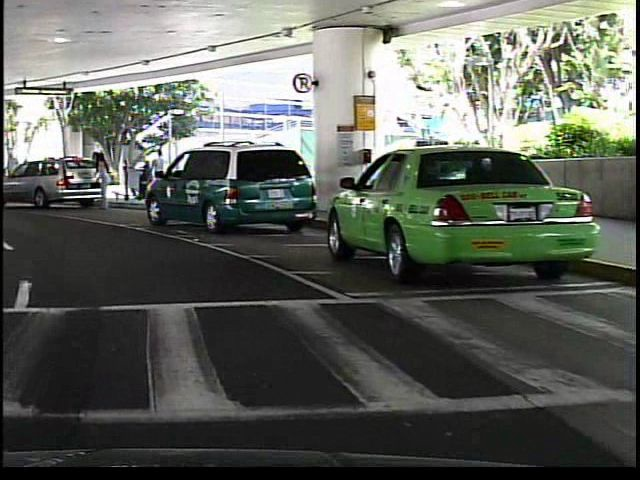person: (90, 148, 109, 209)
